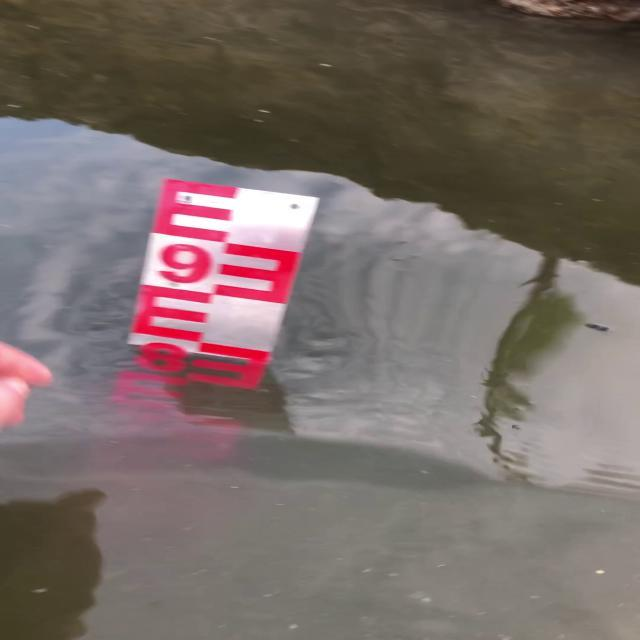ruler: (106, 161, 327, 404)
value: (135, 234, 224, 296)
